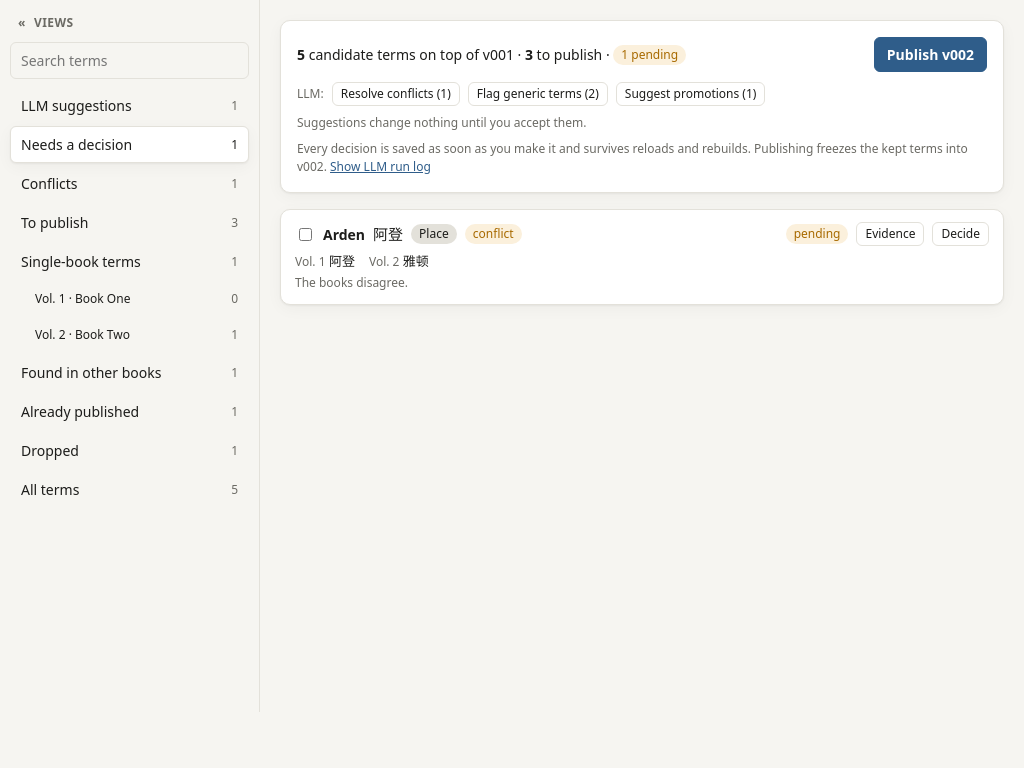
Test: Series workbench › views › lists one book's own terms, and says when a view is empty
This screenshot has width=1024, height=768.
Expected: the text "5 candidate terms on top of v001 · 3 to publish · 1 pending" is shown, [297,44,686,65]
Click the button "Vol. 2 · Book Two 1": (136, 335) [24,318,249,352]
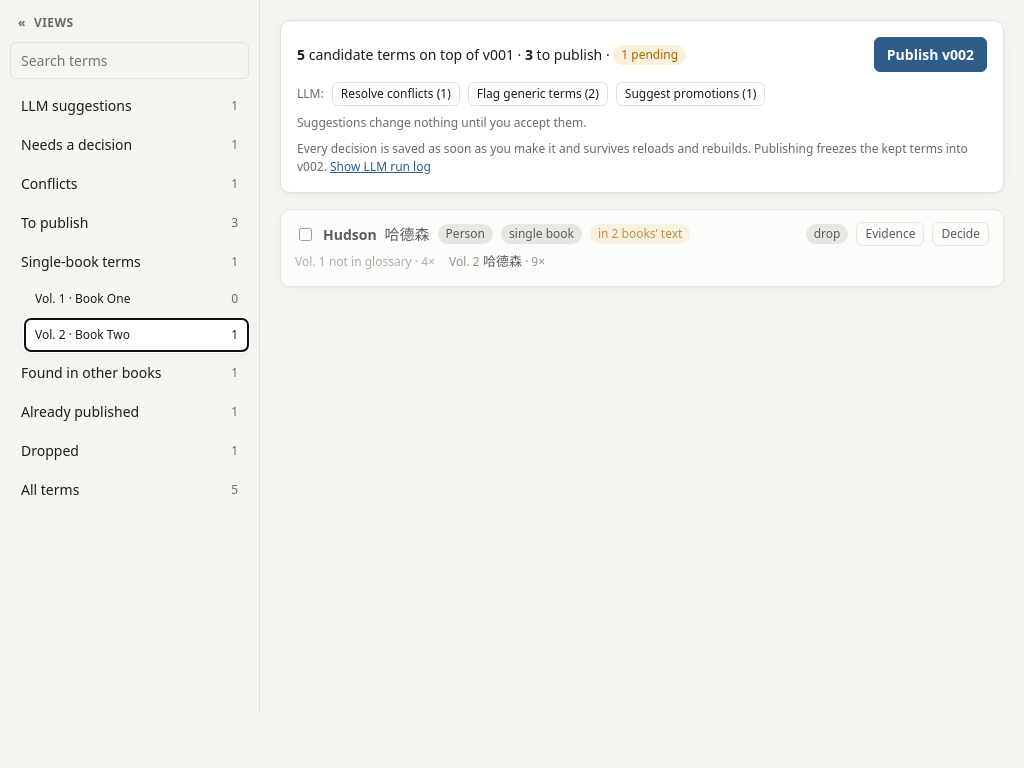
Click the button "Vol. 1 · Book One 0": (136, 299) [24,282,249,316]
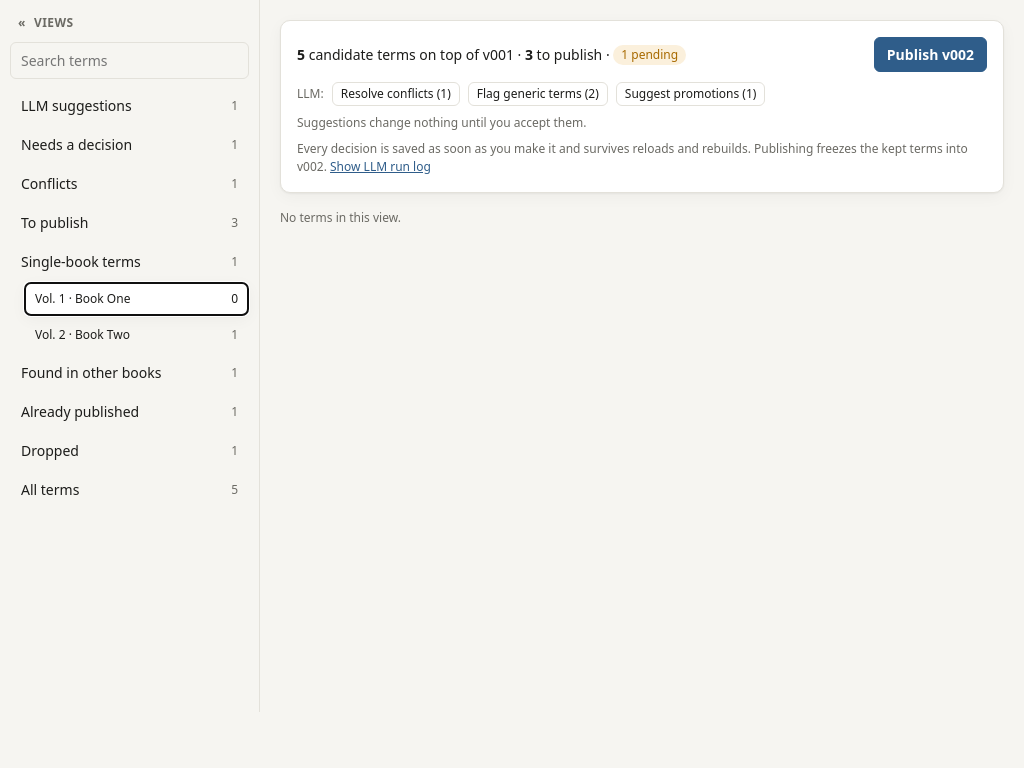
Expected: the text "No terms in this view." is shown, [280,209,401,226]
